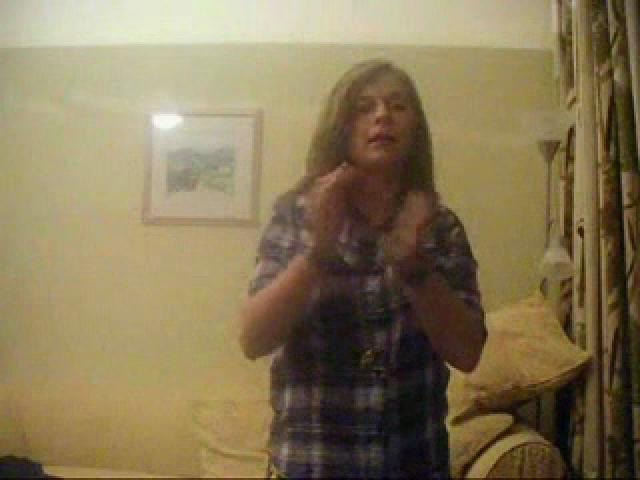F: (240, 61, 481, 478)
